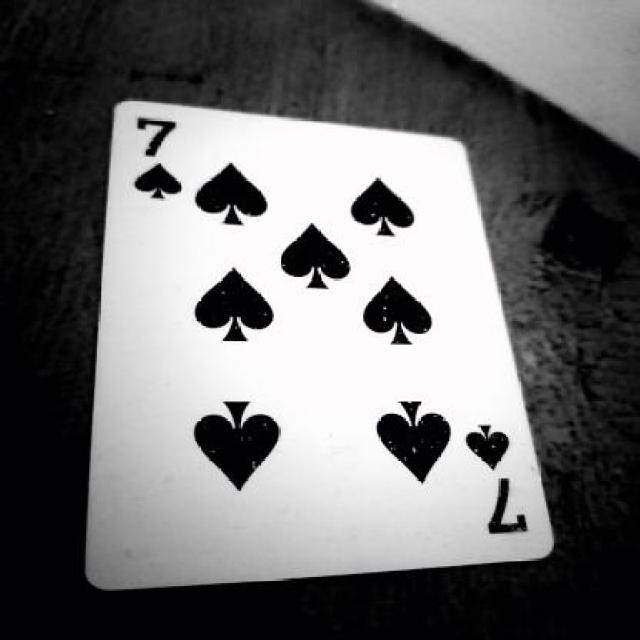7S: (466, 410, 551, 555), (114, 108, 195, 221)
